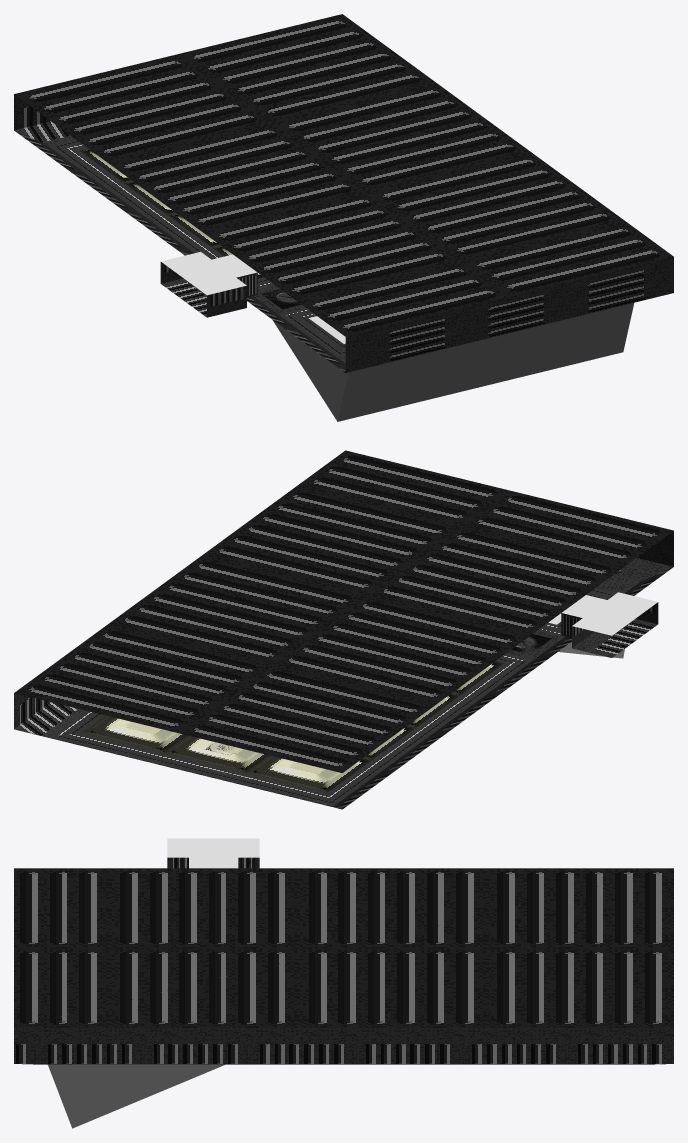
The model's file is calculator.glb.
The picture shows the model from 3 angles, top to bottom: view 1: azimuth 30°, elevation 25°; view 2: azimuth 150°, elevation 25°; view 3: azimuth 270°, elevation 25°; orthographic projection.
Visible parts, largest first — view 1: Object; view 2: Object; view 3: Object.
Boxes of the visible parts, left/top/right/bottom form: Object: left=14, top=14, right=673, bottom=421; Object: left=14, top=450, right=673, bottom=809; Object: left=14, top=838, right=673, bottom=1128.
Bounding box in the file's own units: 0.4128 × 0.1131 × 0.608.
Materials: 29 (29 with a texture image).
